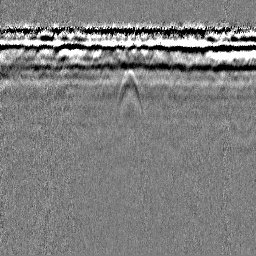cavity: (114, 64, 144, 115)
